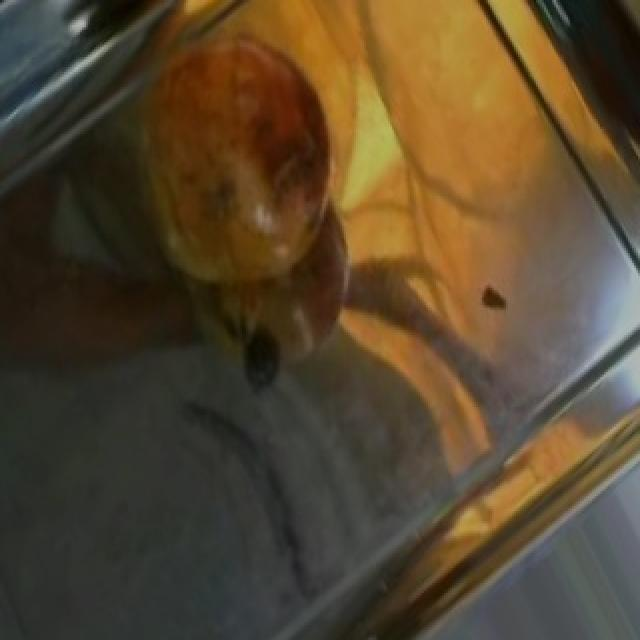fruit: (120, 0, 364, 278)
